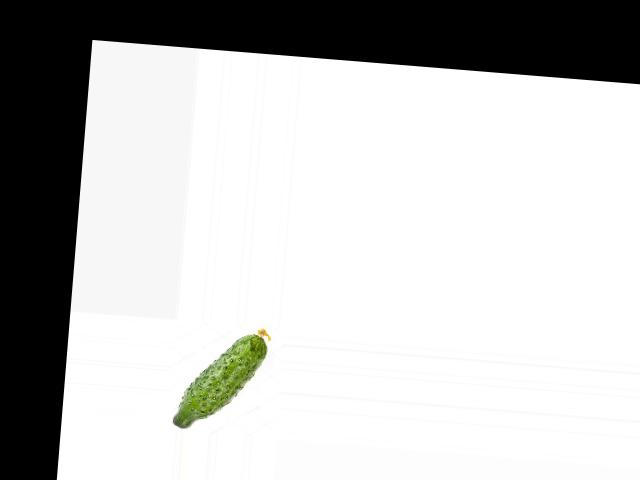cucumber: (171, 321, 271, 434)
